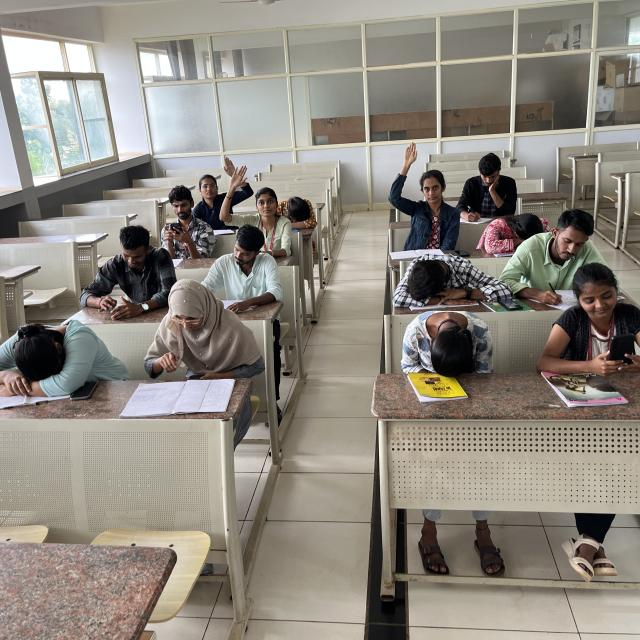Hand Rising: (383, 140, 461, 235), (222, 166, 288, 243), (190, 150, 247, 220)
Reading: (132, 274, 255, 405), (209, 229, 288, 312)
Sleeping: (394, 298, 505, 384), (1, 299, 107, 383), (396, 244, 511, 313), (475, 208, 559, 260), (277, 182, 333, 234)
Using Phone: (546, 255, 640, 382), (80, 224, 174, 318), (152, 181, 218, 261)
Writing: (502, 212, 603, 308), (450, 152, 519, 224)
